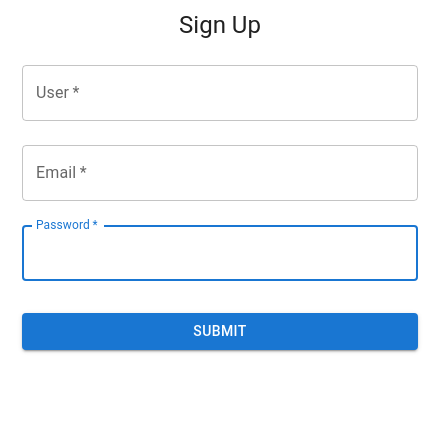
Test case: RegisterView component › displays a success message after successful registration
The width and height of the screenshot is (441, 431).
In the field labelled "User *": (220, 93) [22,65,418,121], type "testuser"
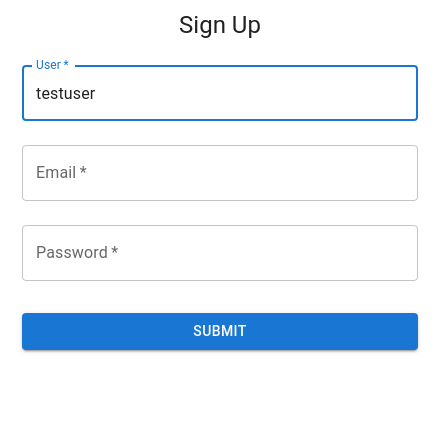
In the field labelled "Email *": (220, 173) [22,145,418,201], type "testuser@example.com"
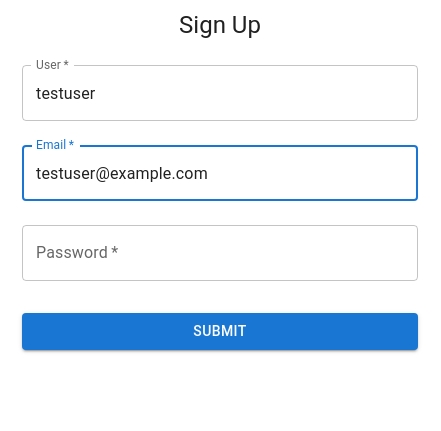
In the password field labelled "Password *": (220, 253) [22,225,418,281], type "password"
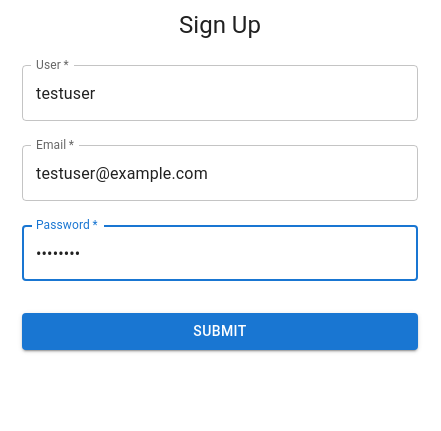
Note: submit the form
Click the button "Submit": (220, 331) [22,313,418,350]
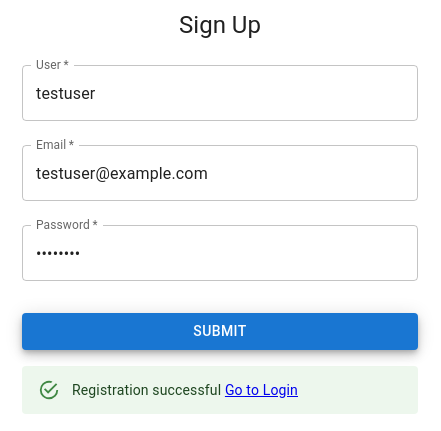
Now the text "Registration successful Go to Login" is shown, box [72,382,298,398]
